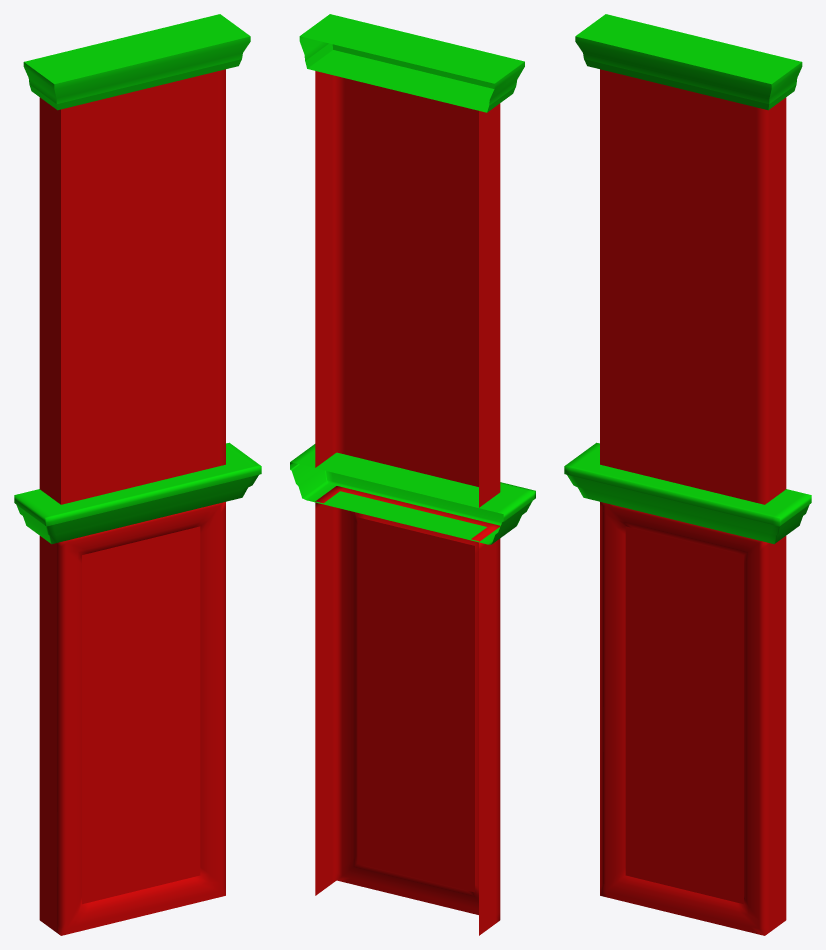
Rendered from SM_Column_WallA1m.fbx.
3 views of the same model, side by side, from view 1: azimuth 30°, elevation 25°; view 2: azimuth 150°, elevation 25°; view 3: azimuth 330°, elevation 25° (orthographic).
Visible parts, largest first — view 1: SM_Column_WallA1m; view 2: SM_Column_WallA1m; view 3: SM_Column_WallA1m.
Part boxes in pixels (left/top/right/bottom): SM_Column_WallA1m: left=14, top=14, right=261, bottom=935; SM_Column_WallA1m: left=290, top=14, right=535, bottom=935; SM_Column_WallA1m: left=564, top=14, right=811, bottom=935.
Size of the model in its own units: 131 by 500 by 33.97.
